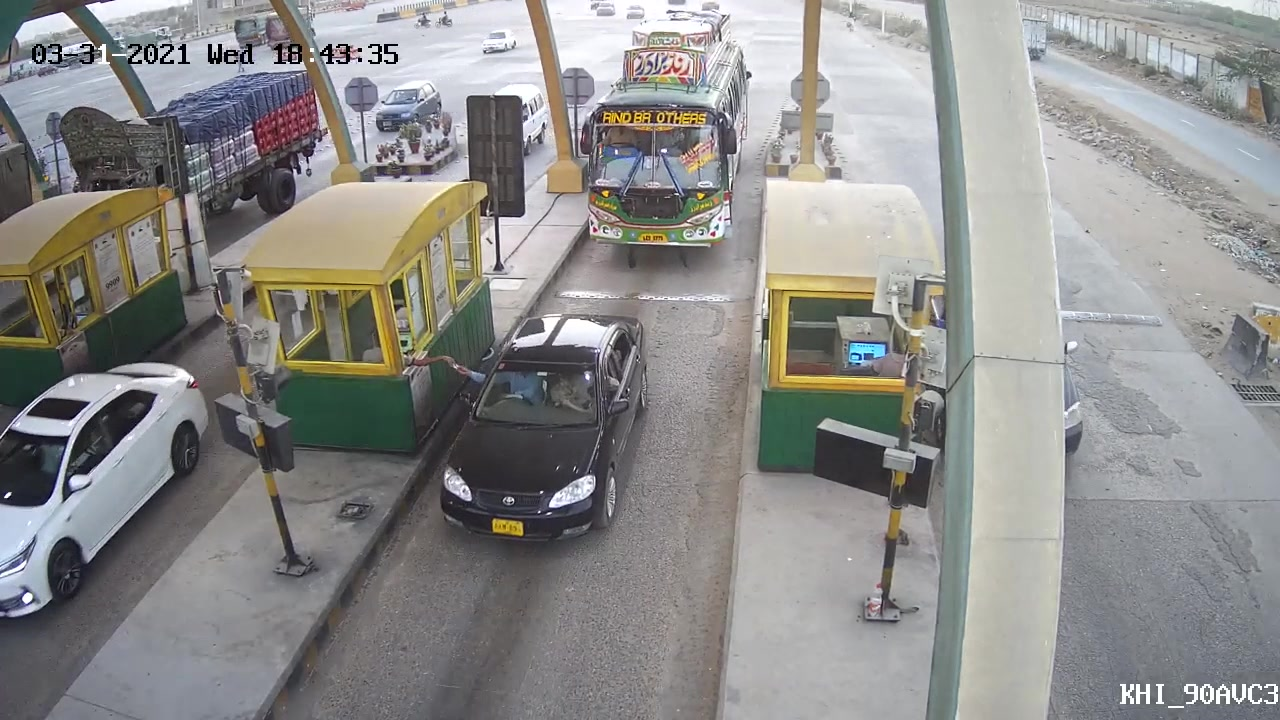F1: (428, 307, 655, 551)
F4: (571, 13, 759, 260)
